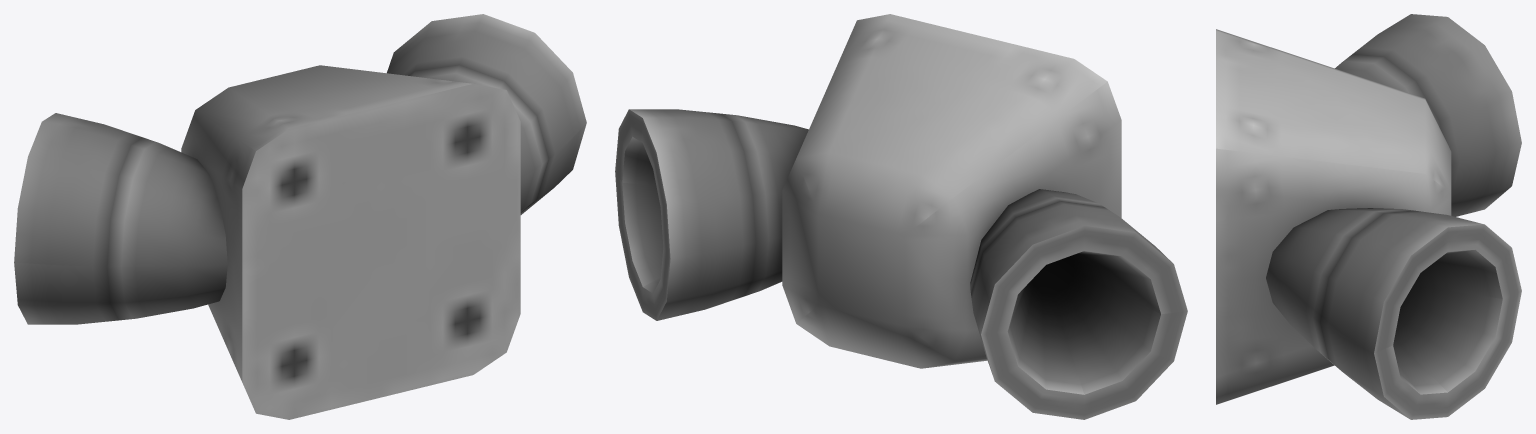
Rendered from rcs2_45.fbx.
The picture shows the model from 3 angles, left to right: view 1: azimuth 30°, elevation 25°; view 2: azimuth 150°, elevation 25°; view 3: azimuth 270°, elevation 25°; orthographic projection. The views are drawn at different scales.
Parts seen in each view (by area): view 1: mesh; view 2: mesh; view 3: mesh.
Boxes of the visible parts, x1=… form: mesh: x1=14, y1=14, x2=586, y2=419; mesh: x1=615, y1=14, x2=1187, y2=419; mesh: x1=1216, y1=14, x2=1521, y2=419.
Size of the model in its own units: 0.1544 by 0.075 by 0.0731.
1 material, 1 textured.
